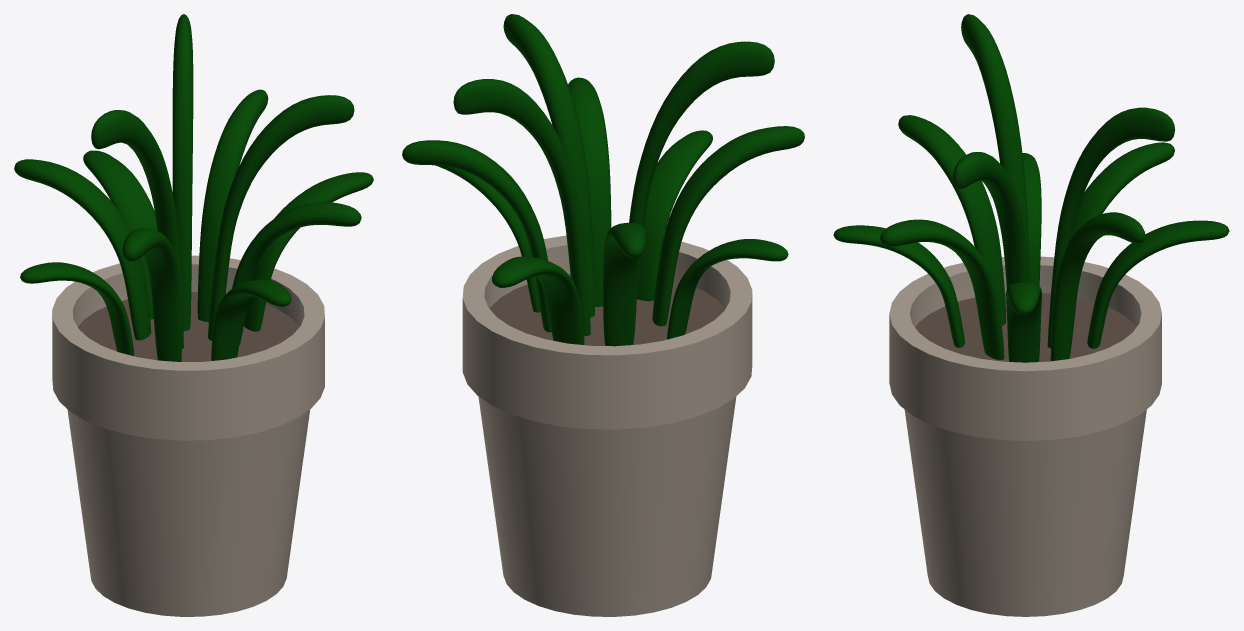
Rendered from Plante1_1.fbx.
The picture shows the model from 3 angles, left to right: view 1: azimuth 30°, elevation 25°; view 2: azimuth 150°, elevation 25°; view 3: azimuth 270°, elevation 25°; orthographic projection. The views are drawn at different scales.
Visible parts, largest first — view 1: pCylinder732, pCube1946, pCube1949, pCube1943, pCube1948, pCylinder733, pCube1950, pCube1941, pCube1942, pCube1947, pCube1944, pCube1945 (+1 smaller); view 2: pCylinder732, pCube1949, pCube1950, pCube1946, pCube1941, pCylinder733, pCube1943, pCube1945, pCube1947, pCube1948, pCube1942, pCube1940 (+1 smaller); view 3: pCylinder732, pCylinder733, pCube1949, pCube1950, pCube1941, pCube1947, pCube1943, pCube1946, pCube1942, pCube1948, pCube1945, pCube1944 (+1 smaller).
Part boxes in pixels (left/top/right/bottom): pCylinder732: left=52, top=255, right=324, bottom=616; pCube1946: left=208, top=95, right=354, bottom=340; pCube1949: left=172, top=14, right=193, bottom=330; pCube1943: left=197, top=89, right=268, bottom=322; pCube1948: left=14, top=159, right=151, bottom=340; pCylinder733: left=78, top=292, right=299, bottom=361; pCube1950: left=91, top=110, right=183, bottom=348; pCube1941: left=122, top=228, right=181, bottom=361; pCube1942: left=83, top=150, right=157, bottom=319; pCube1947: left=232, top=202, right=361, bottom=344; pCube1944: left=243, top=172, right=373, bottom=331; pCube1945: left=211, top=279, right=291, bottom=360; pCylinder732: left=462, top=235, right=752, bottom=616; pCube1949: left=453, top=79, right=590, bottom=336; pCube1950: left=629, top=41, right=774, bottom=287; pCube1946: left=503, top=14, right=594, bottom=317; pCube1941: left=652, top=126, right=804, bottom=326; pCylinder733: left=490, top=274, right=725, bottom=345; pCube1943: left=402, top=140, right=551, bottom=332; pCube1945: left=636, top=130, right=712, bottom=301; pCube1947: left=568, top=77, right=611, bottom=306; pCube1948: left=603, top=222, right=646, bottom=346; pCube1942: left=492, top=256, right=584, bottom=344; pCube1940: left=667, top=239, right=788, bottom=339; pCylinder732: left=889, top=256, right=1161, bottom=616; pCylinder733: left=915, top=293, right=1135, bottom=361; pCube1949: left=1047, top=107, right=1174, bottom=348; pCube1950: left=961, top=14, right=1029, bottom=282; pCube1941: left=898, top=115, right=1005, bottom=325; pCube1947: left=880, top=219, right=1004, bottom=359; pCube1943: left=1050, top=212, right=1145, bottom=361; pCube1946: left=952, top=152, right=1028, bottom=287; pCube1942: left=1087, top=220, right=1229, bottom=348; pCube1948: left=1073, top=142, right=1174, bottom=235; pCube1945: left=833, top=225, right=964, bottom=347; pCube1944: left=1006, top=282, right=1041, bottom=362.
Size of the model in its own units: 16.65 by 22.94 by 16.27.
